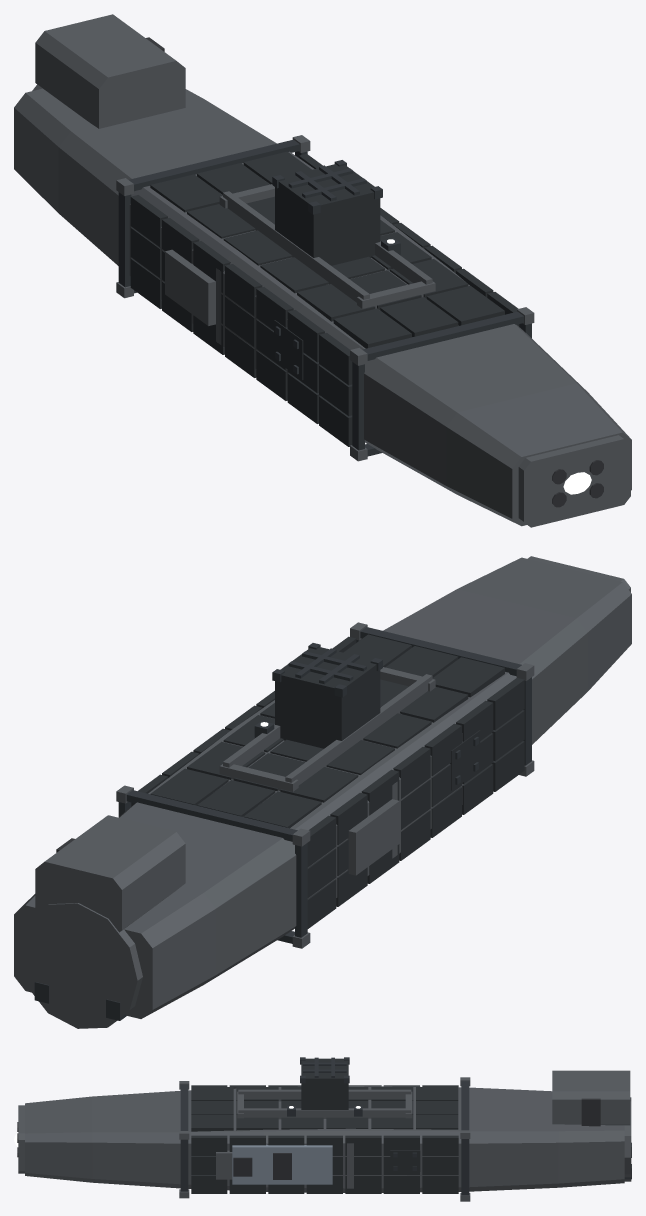
The picture shows the model from 3 angles, top to bottom: view 1: azimuth 30°, elevation 25°; view 2: azimuth 150°, elevation 25°; view 3: azimuth 270°, elevation 25°; orthographic projection. The views are drawn at different scales.
Visible parts, largest first — view 1: RIMWARD_HULL; view 2: RIMWARD_HULL; view 3: RIMWARD_HULL.
Part boxes in pixels (box(x1,y1,x2,y2)): RIMWARD_HULL: box(14, 14, 631, 527); RIMWARD_HULL: box(14, 556, 631, 1028); RIMWARD_HULL: box(17, 1057, 631, 1201).
Size of the model in its own units: 2.46 by 2.2 by 11.09.
